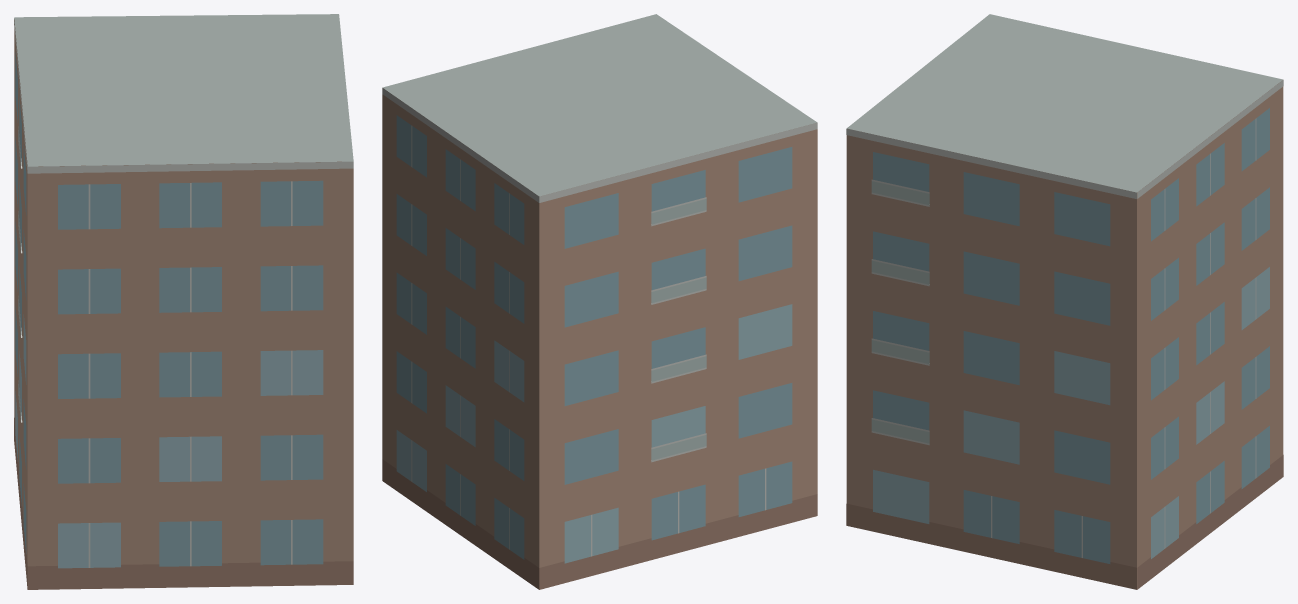
The model's file is survey-upis-32728395.glb.
3 renders of one model, left to right at view 1: azimuth 30°, elevation 25°; view 2: azimuth 150°, elevation 25°; view 3: azimuth 270°, elevation 25°, orthographic. The views are drawn at different scales.
Visible parts, largest first — view 1: survey-upis-32728395.tmp; view 2: survey-upis-32728395.tmp; view 3: survey-upis-32728395.tmp.
Boxes of the visible parts, x1,y1,x2,y2 form: survey-upis-32728395.tmp: (14, 14, 353, 589); survey-upis-32728395.tmp: (382, 14, 817, 589); survey-upis-32728395.tmp: (846, 14, 1283, 589).
Bounding box in the file's own units: 14.08 × 14.6 × 14.56.
